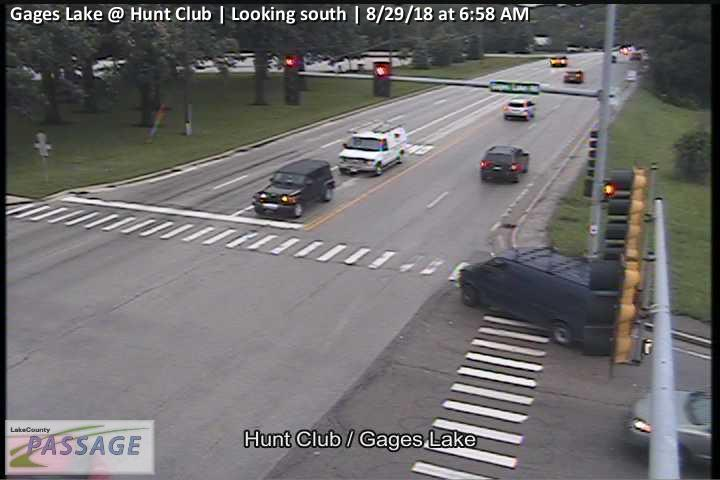SUV: (460, 248, 632, 353), (252, 157, 335, 217), (340, 122, 408, 177), (481, 145, 530, 184), (504, 98, 536, 120), (564, 68, 584, 82), (550, 56, 568, 67)
